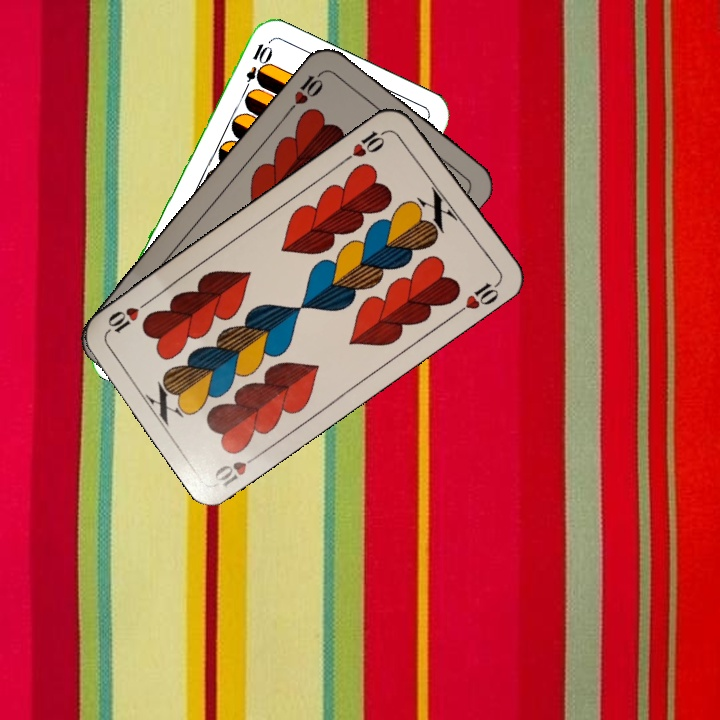E10: (239, 39, 273, 97)
H10: (210, 448, 265, 490), (284, 66, 328, 115), (339, 125, 392, 164)
